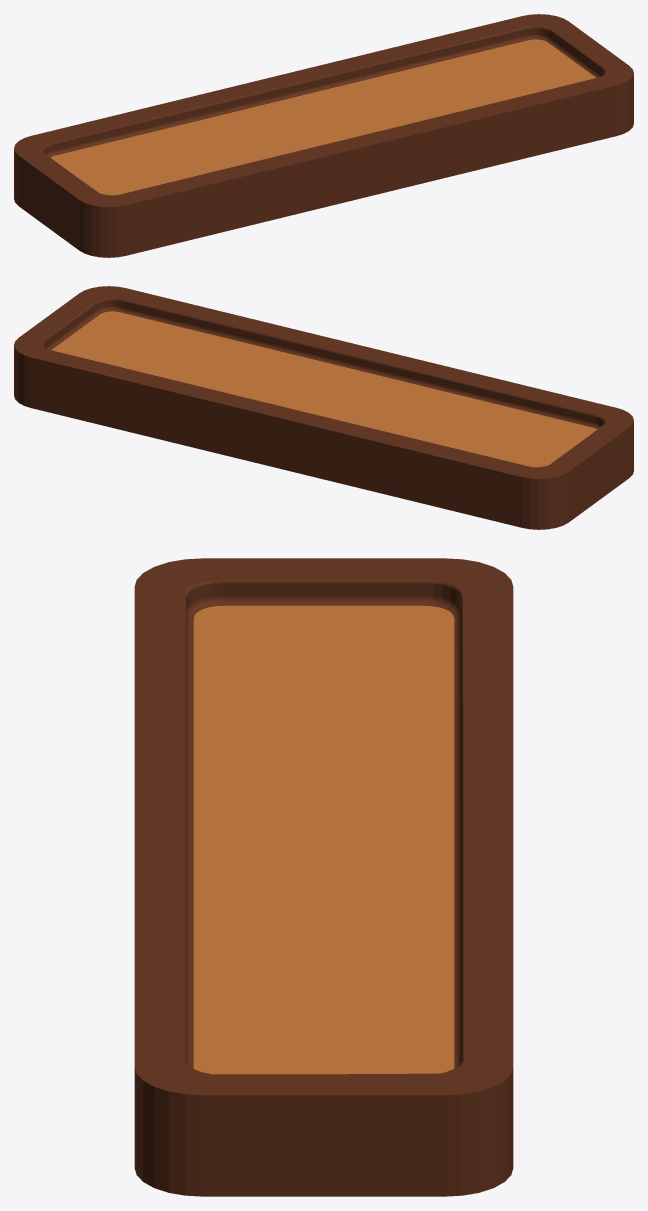
The model's file is LevelBar.fbx.
3 renders of one model, top to bottom at view 1: azimuth 30°, elevation 25°; view 2: azimuth 150°, elevation 25°; view 3: azimuth 270°, elevation 25°, orthographic. The views are drawn at different scales.
Visible parts, largest first — view 1: Cube_3; view 2: Cube_3; view 3: Cube_3.
Boxes of the visible parts, left/top/right/bottom form: Cube_3: left=14, top=14, right=633, bottom=257; Cube_3: left=14, top=286, right=633, bottom=529; Cube_3: left=134, top=558, right=513, bottom=1196.
Bounding box in the file's own units: 835 × 73.5 × 249.
